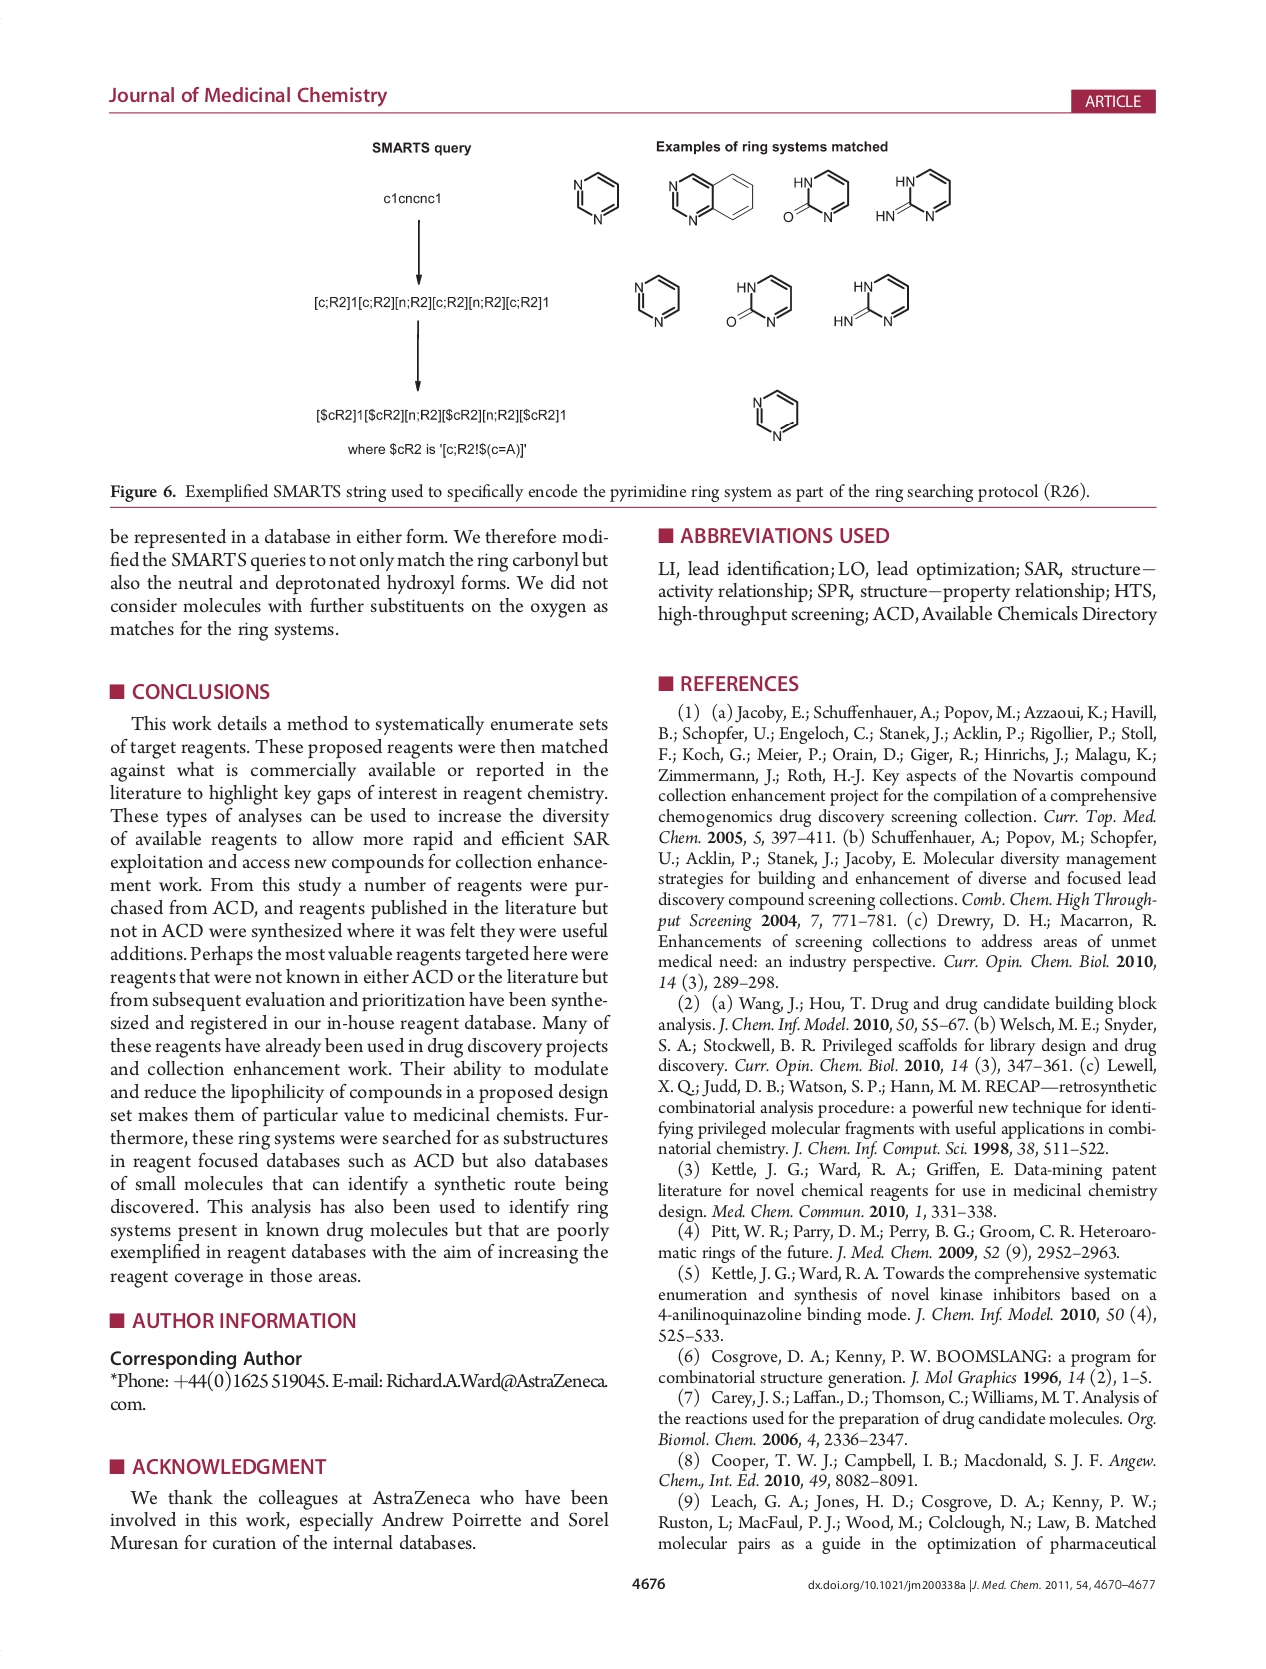exist_molecular: (661, 168, 757, 227), (827, 269, 914, 332), (875, 165, 955, 227), (779, 165, 852, 229), (723, 269, 797, 332), (572, 166, 624, 230), (633, 269, 684, 331), (749, 387, 802, 444)
